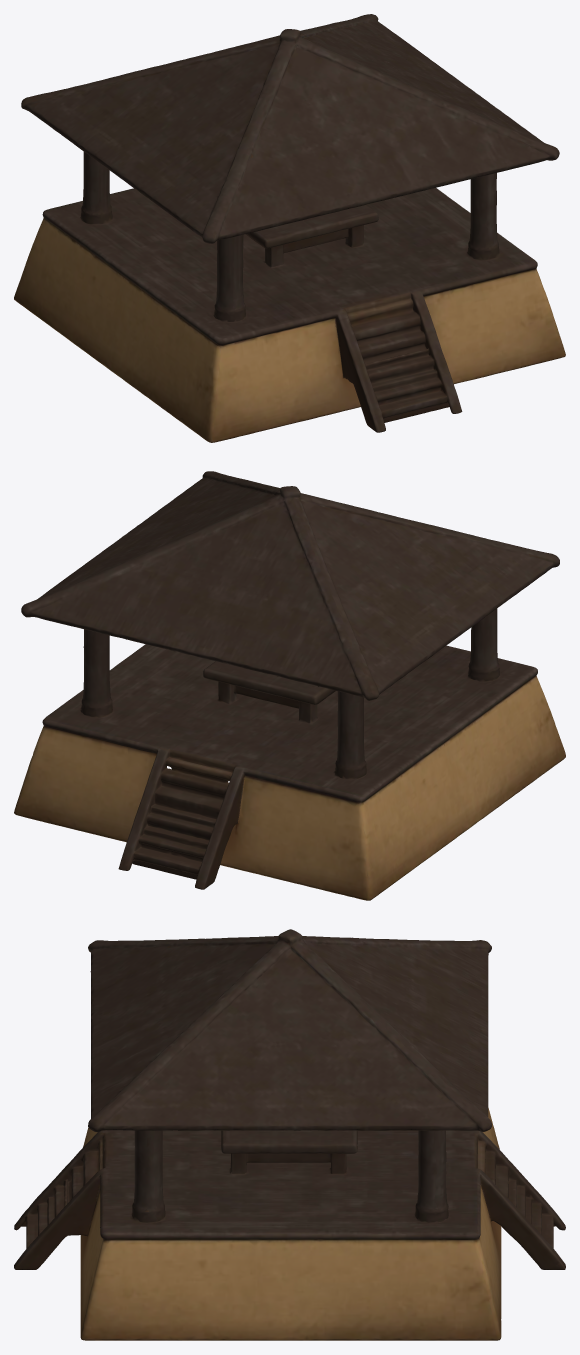
File: tower-cmd-proto.glb
The picture shows the model from 3 angles, top to bottom: view 1: azimuth 30°, elevation 25°; view 2: azimuth 150°, elevation 25°; view 3: azimuth 270°, elevation 25°; orthographic projection. The views are drawn at different scales.
Bounding box in the file's own units: 0.7943 × 0.632 × 0.998.
Materials: 1 (1 with a texture image).
